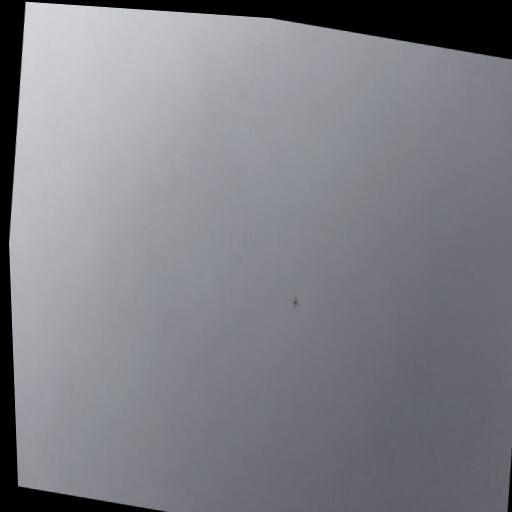drones: (291, 295, 300, 310)
